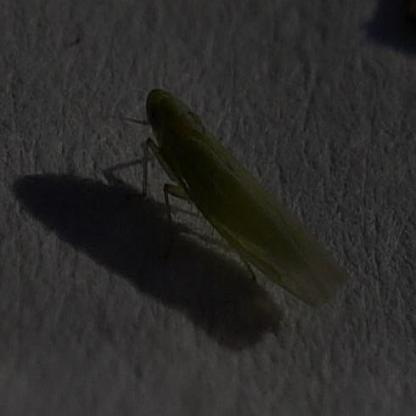green-leafhopper: (127, 70, 356, 320)
